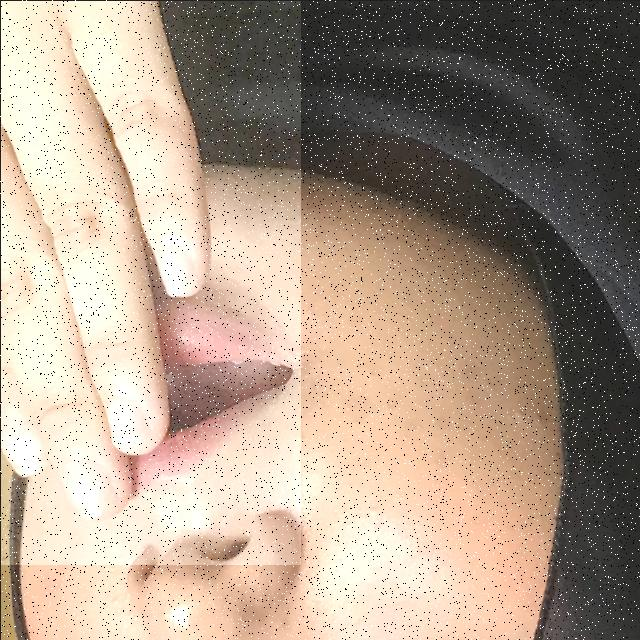ngantuk: (0, 0, 300, 564)
